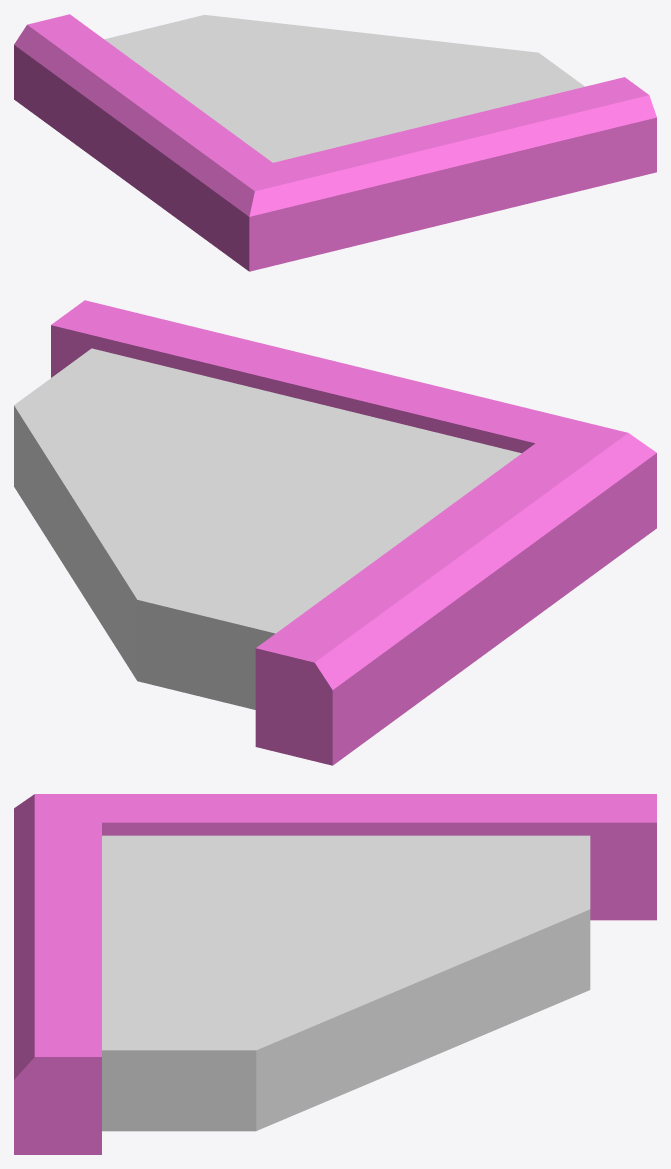
The model's file is SM_Tower_Round_3m_Floor_Quater_Fantasy.fbx.
3 renders of one model, top to bottom at view 1: azimuth 30°, elevation 25°; view 2: azimuth 150°, elevation 25°; view 3: azimuth 270°, elevation 25°, orthographic. The views are drawn at different scales.
Parts seen in each view (by area): view 1: SM_Tower_Round_3m_Floor_Quater_Fantasy; view 2: SM_Tower_Round_3m_Floor_Quater_Fantasy; view 3: SM_Tower_Round_3m_Floor_Quater_Fantasy.
Part boxes in pixels (<box>): SM_Tower_Round_3m_Floor_Quater_Fantasy: <box>14,14,656,271</box>; SM_Tower_Round_3m_Floor_Quater_Fantasy: <box>14,300,656,765</box>; SM_Tower_Round_3m_Floor_Quater_Fantasy: <box>14,794,656,1154</box>.
Bounding box in the file's own units: 1.44 × 0.2425 × 1.44.
